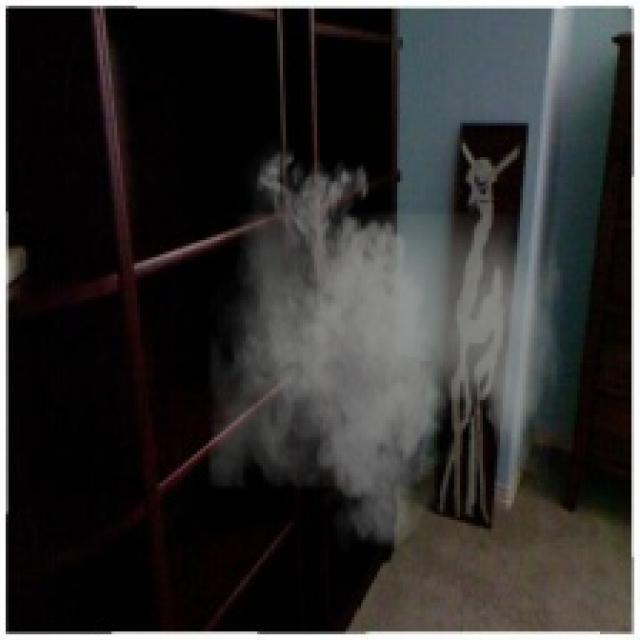Smoke: (208, 137, 563, 563)
